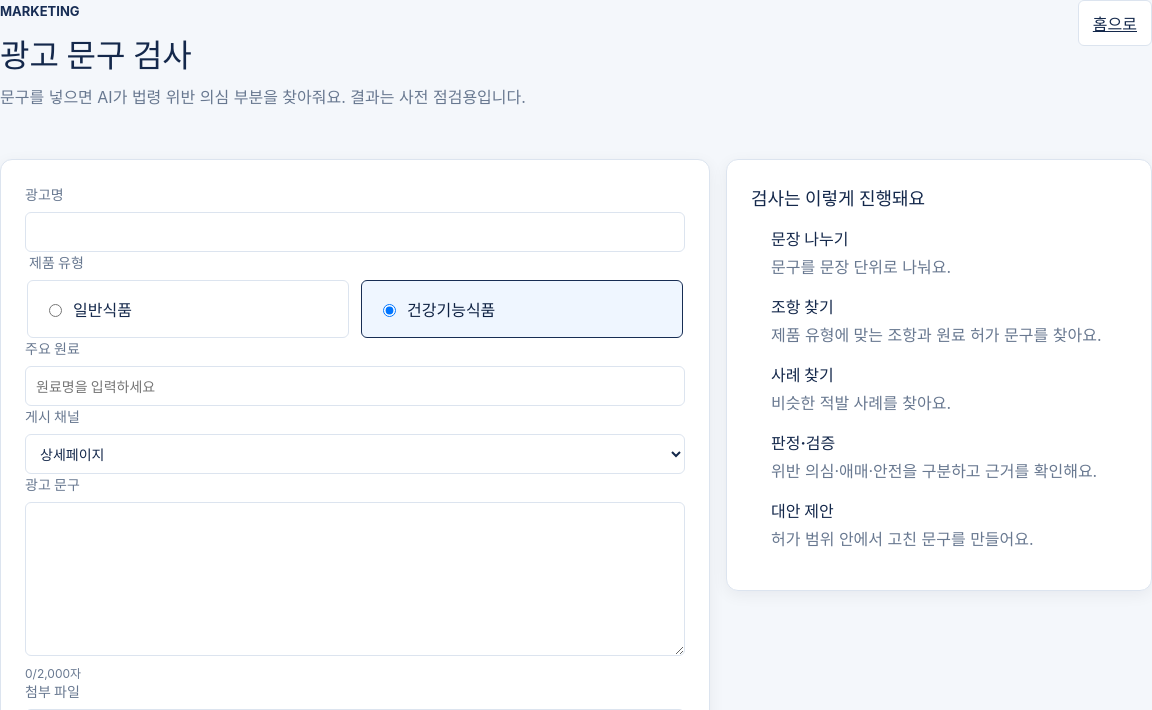
Scenario: CheckFormPage › moves to the result report after a fixture check starts
Type "예시 광고" into the field labelled "광고명" at (355, 232), box 25,212 -> 685,252
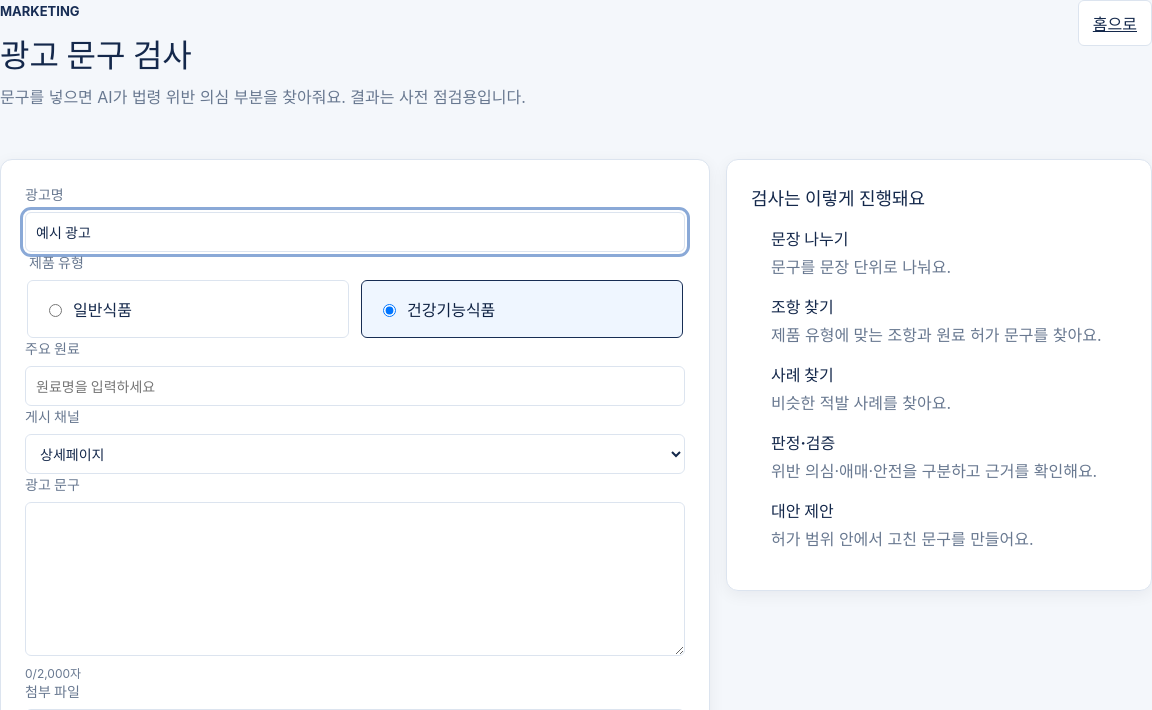
Type "예시 광고 문구" into the text box labelled "광고 문구 0/2,000자" at (355, 579), box 25,502 -> 685,656
(page scrolled)
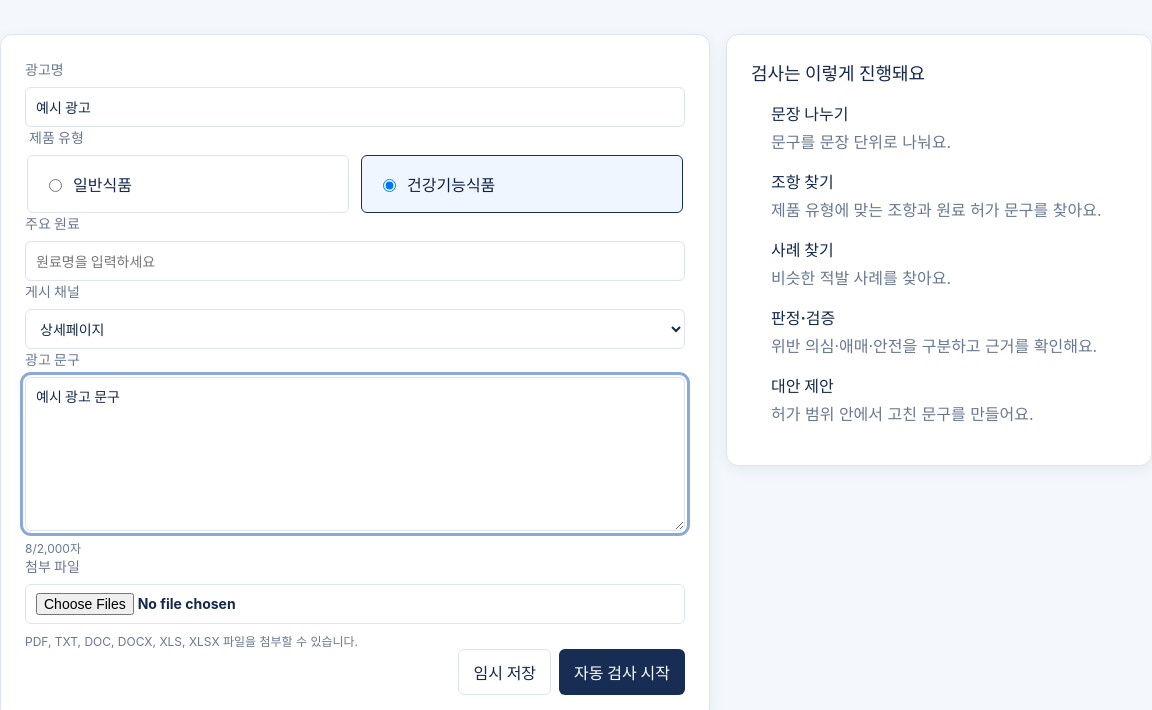
Click the button "자동 검사 시작" at (622, 672), box 559,649 -> 685,695
(page scrolled)
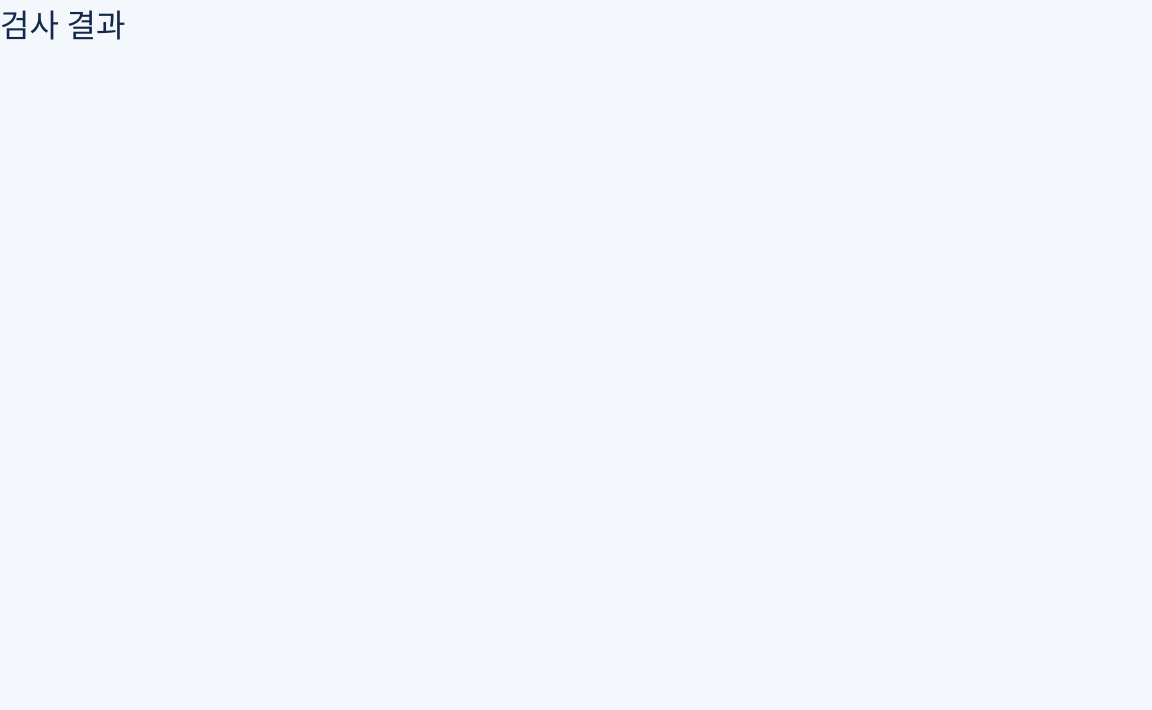
Check: the heading "검사 결과" is shown, box 0,6 -> 125,45
